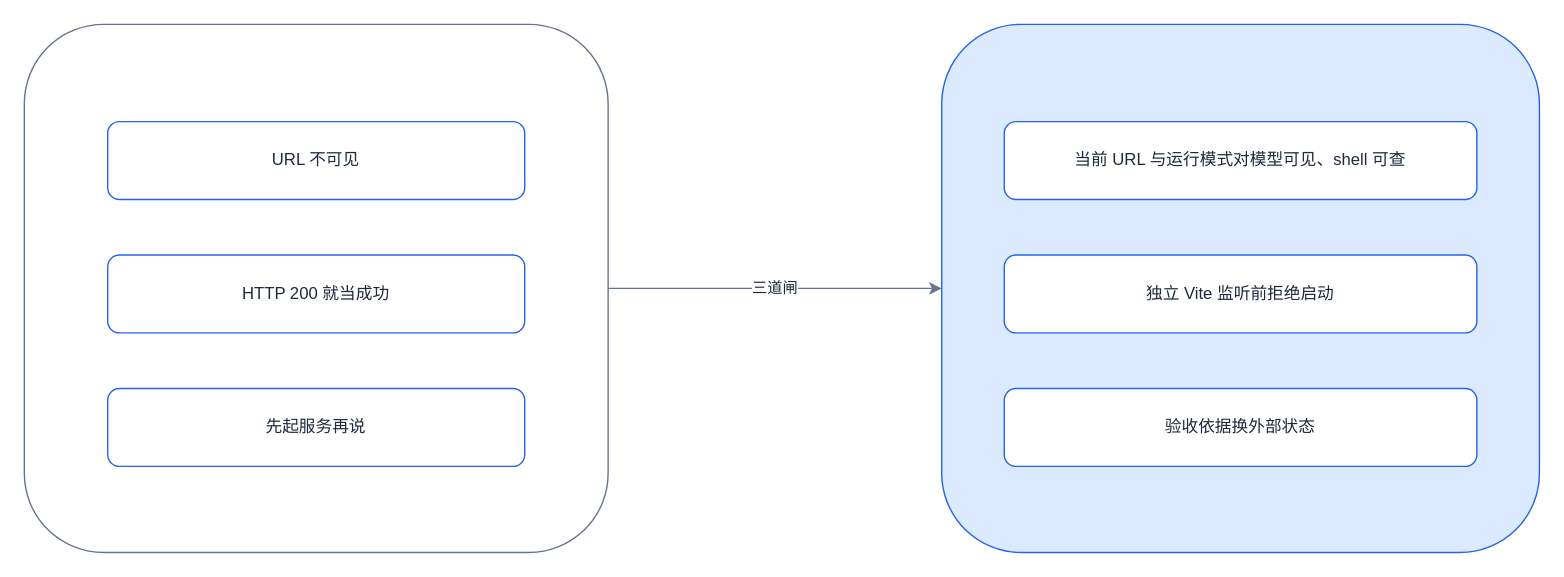
The diagram is 1564 pixels wide and 577 high, and some of its shapes have lost their labels. The shapes that lost their labels are listed below. From the top down, each one's box as (x1, y1, x2, y2) in pixels, then its label:
(23, 23, 608, 553): 修复前
(940, 23, 1539, 553): 修复后
